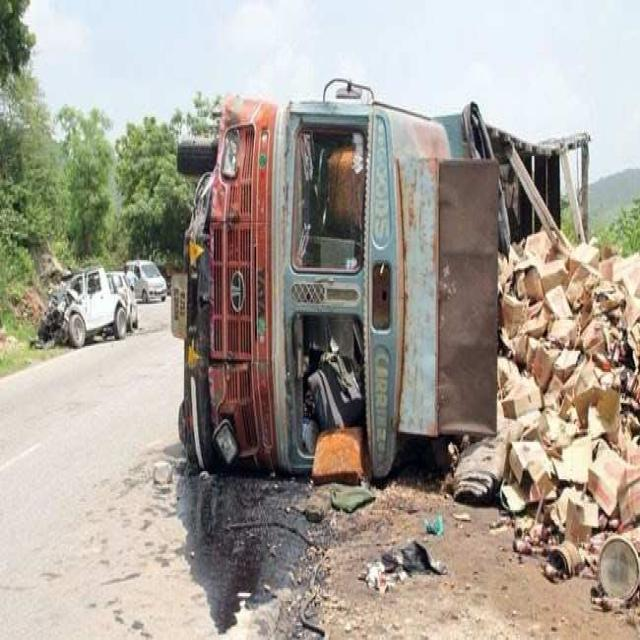accident: (172, 78, 587, 478), (38, 268, 128, 347)
